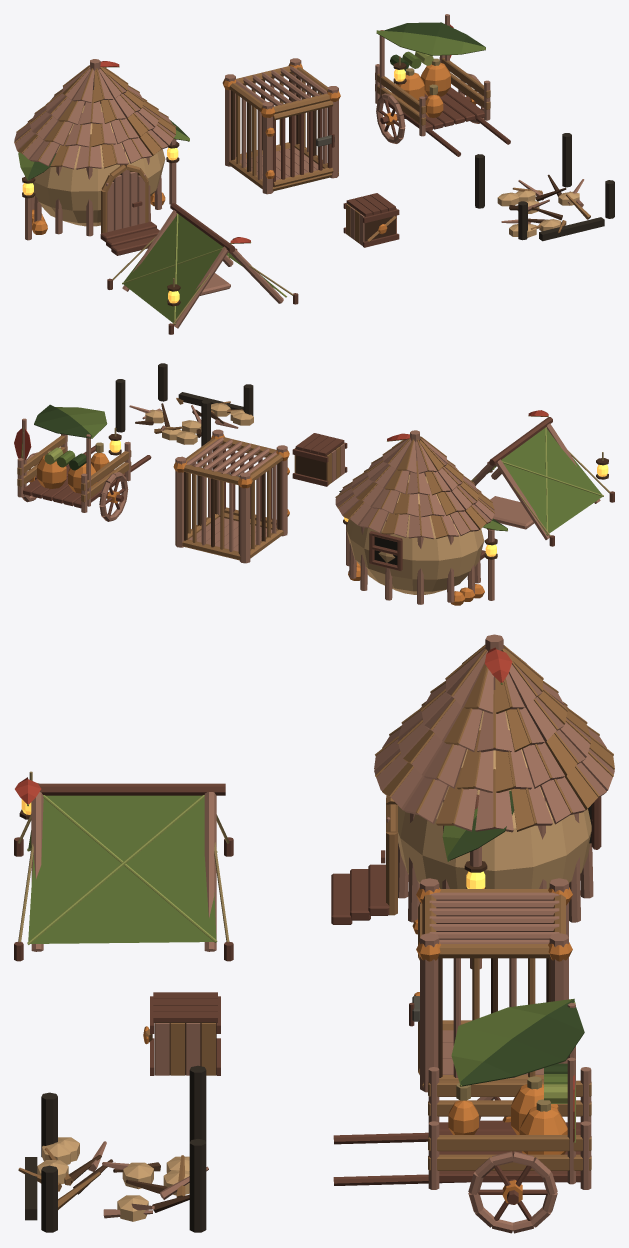
3 views of the same model, one above another, from view 1: azimuth 30°, elevation 25°; view 2: azimuth 150°, elevation 25°; view 3: azimuth 270°, elevation 25° (orthographic). The views are drawn at different scales.
Parts seen in each view (by area): view 1: briarwatch-village-kit · evaluated preview mesh; view 2: briarwatch-village-kit · evaluated preview mesh; view 3: briarwatch-village-kit · evaluated preview mesh.
Part boxes in pixels (<box>): briarwatch-village-kit · evaluated preview mesh: <box>14,14,614,334</box>; briarwatch-village-kit · evaluated preview mesh: <box>14,363,614,605</box>; briarwatch-village-kit · evaluated preview mesh: <box>14,634,614,1233</box>.
Size of the model in its own units: 15.21 by 4.9 by 9.73.
